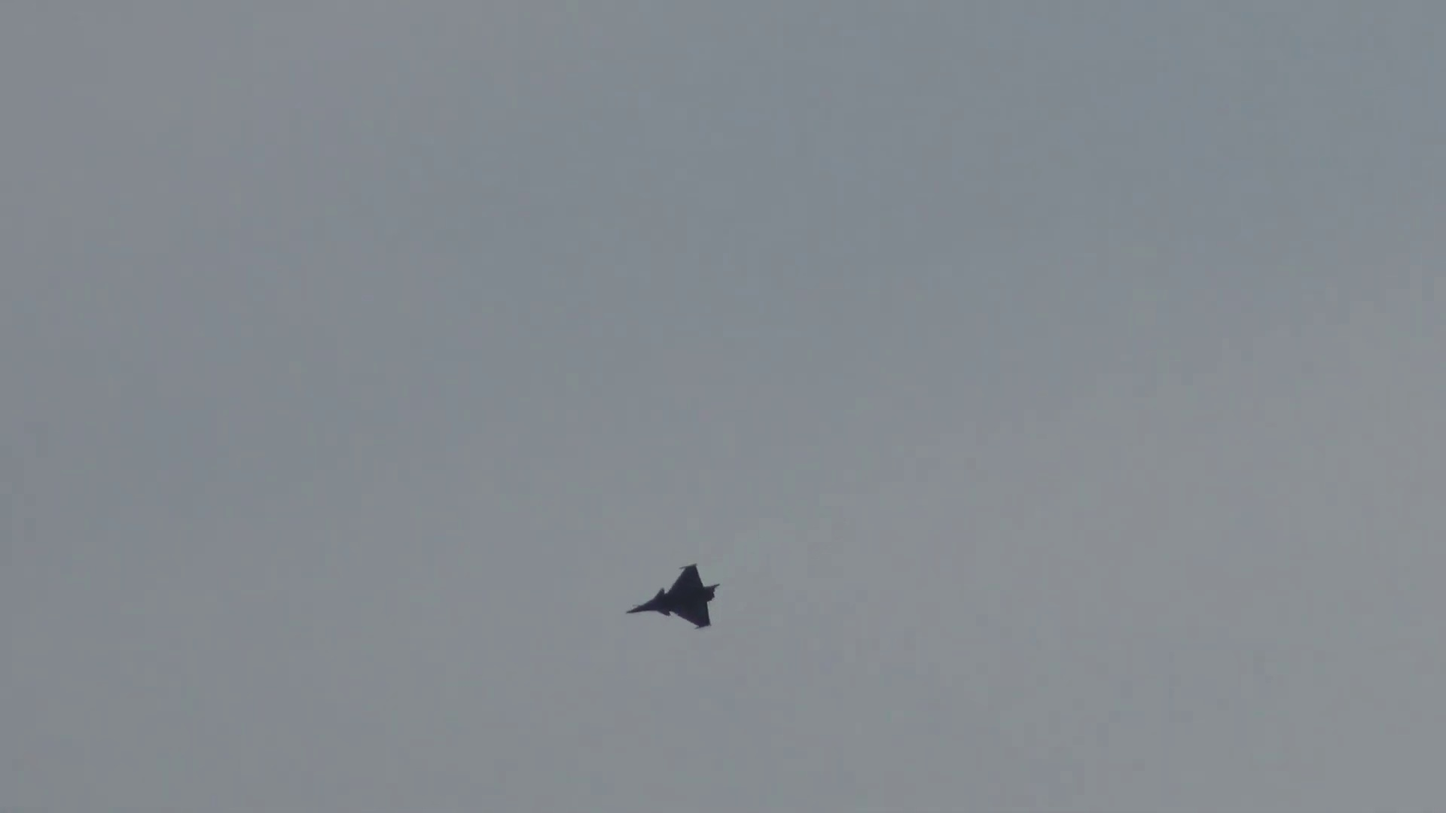Rafale: (623, 560, 723, 631)
